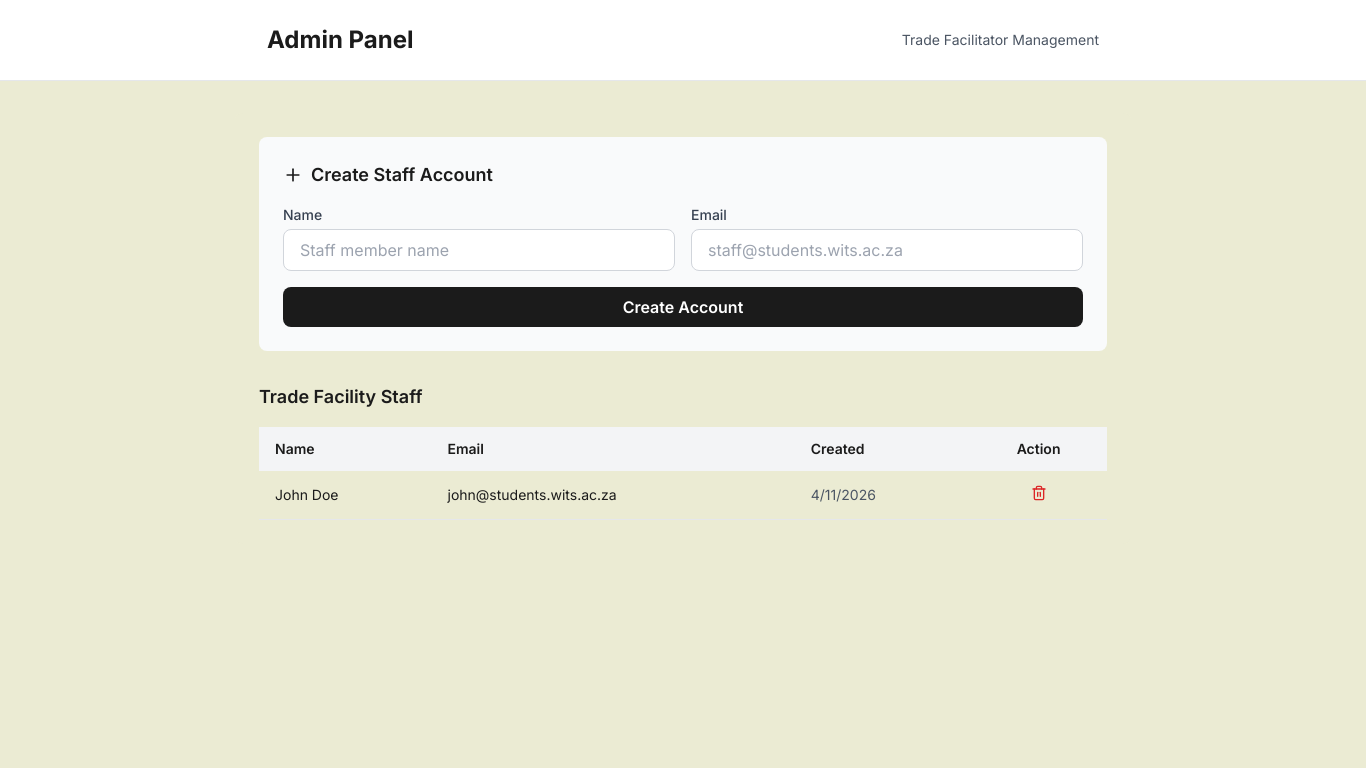
Test case: AdminPanel Component › Delete Staff Account › displays success message after deleting staff member
The image size is (1366, 768).
Expected: the text "John Doe" is shown, x1=259 y1=471 x2=432 y2=520
Click the button titled "Delete staff member".
click(1038, 493)  # box x1=1030 y1=485 x2=1046 y2=501
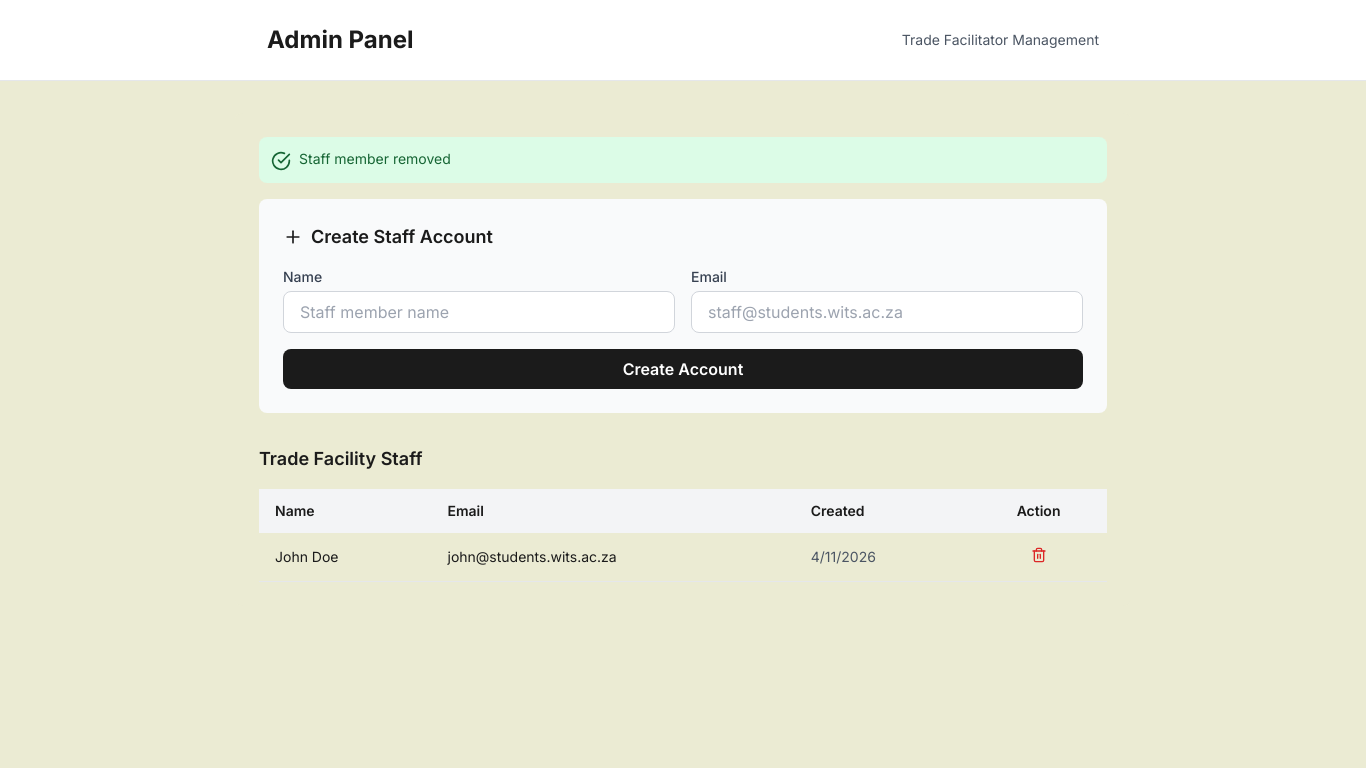
Expected: the text "Staff member removed" is shown, x1=299 y1=149 x2=451 y2=169
